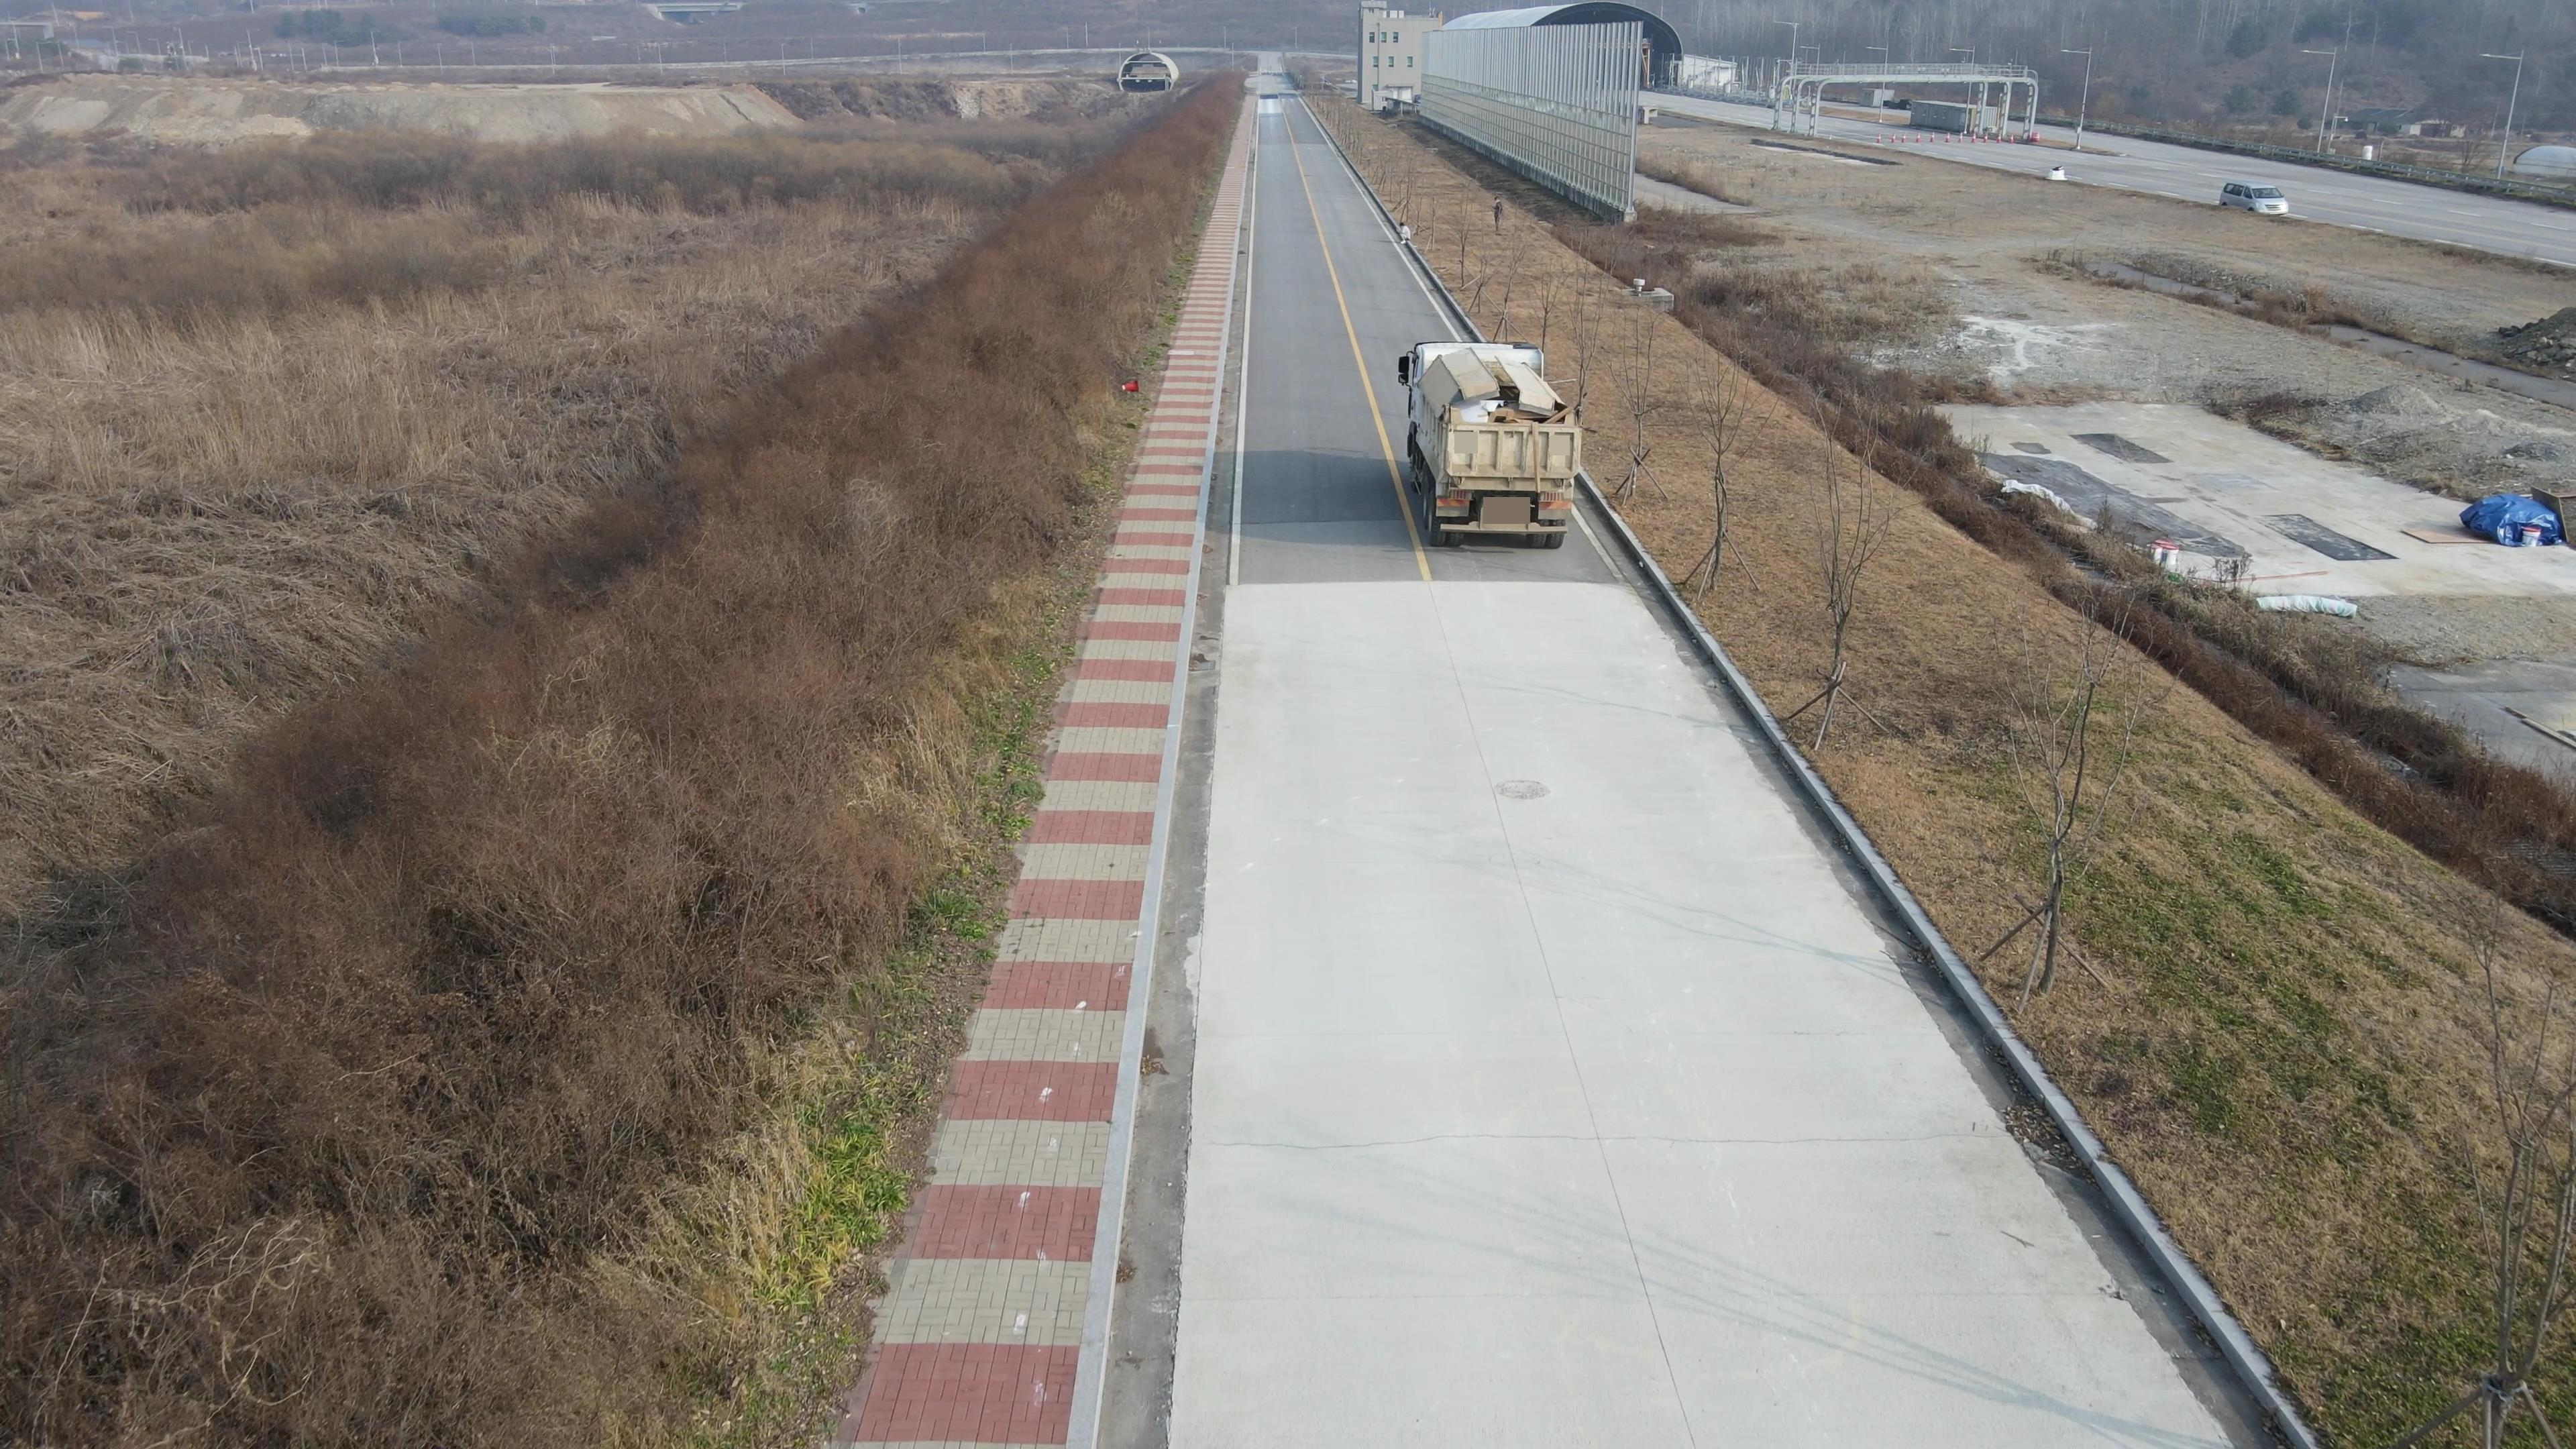불법차량: (1398, 340, 1585, 551)
